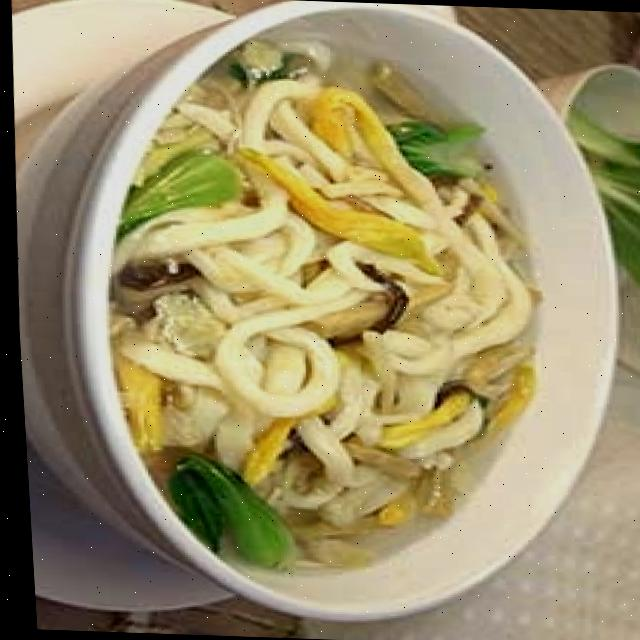面条主食: (52, 1, 624, 610)
